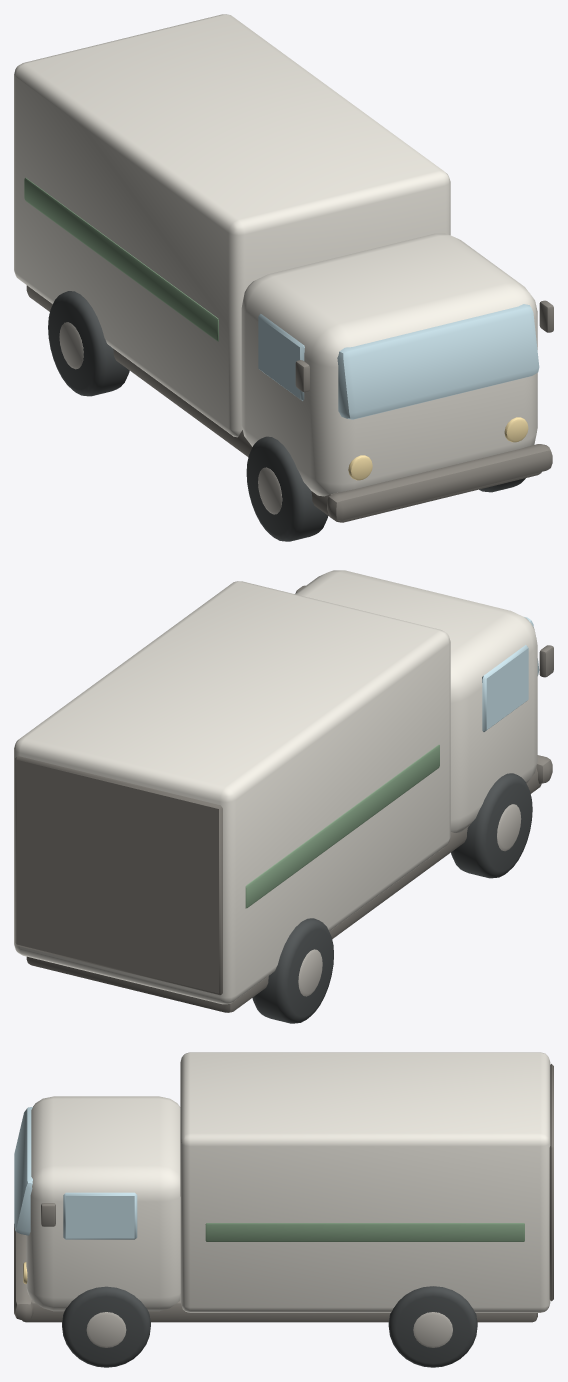
The model's file is lorry.glb.
The picture shows the model from 3 angles, top to bottom: view 1: azimuth 30°, elevation 25°; view 2: azimuth 150°, elevation 25°; view 3: azimuth 270°, elevation 25°; orthographic projection. The views are drawn at different scales.
Visible parts, largest first — view 1: lorry.001, glass, steel_dark, rubber, stripe, steel, light; view 2: lorry.001, steel_dark, rubber, stripe, glass, steel; view 3: lorry.001, rubber, steel_dark, stripe, glass, steel.
Boxes of the visible parts, <box> form: lorry.001: <box>14,14,537,496</box>; glass: <box>258,304,539,419</box>; steel_dark: <box>26,285,553,522</box>; rubber: <box>48,291,525,541</box>; stripe: <box>24,177,218,341</box>; steel: <box>59,322,282,514</box>; light: <box>348,417,528,480</box>; lorry.001: <box>14,570,537,1004</box>; steel_dark: <box>15,585,553,1012</box>; rubber: <box>252,773,532,1023</box>; stripe: <box>245,744,439,908</box>; glass: <box>482,617,539,731</box>; steel: <box>298,804,521,996</box>; lorry.001: <box>26,1052,550,1312</box>; rubber: <box>62,1286,477,1367</box>; steel_dark: <box>14,1064,553,1322</box>; stripe: <box>205,1223,524,1241</box>; glass: <box>14,1107,137,1239</box>; steel: <box>86,1312,452,1347</box>.
Size of the model in its own units: 1.94 by 2.05 by 4.38.
